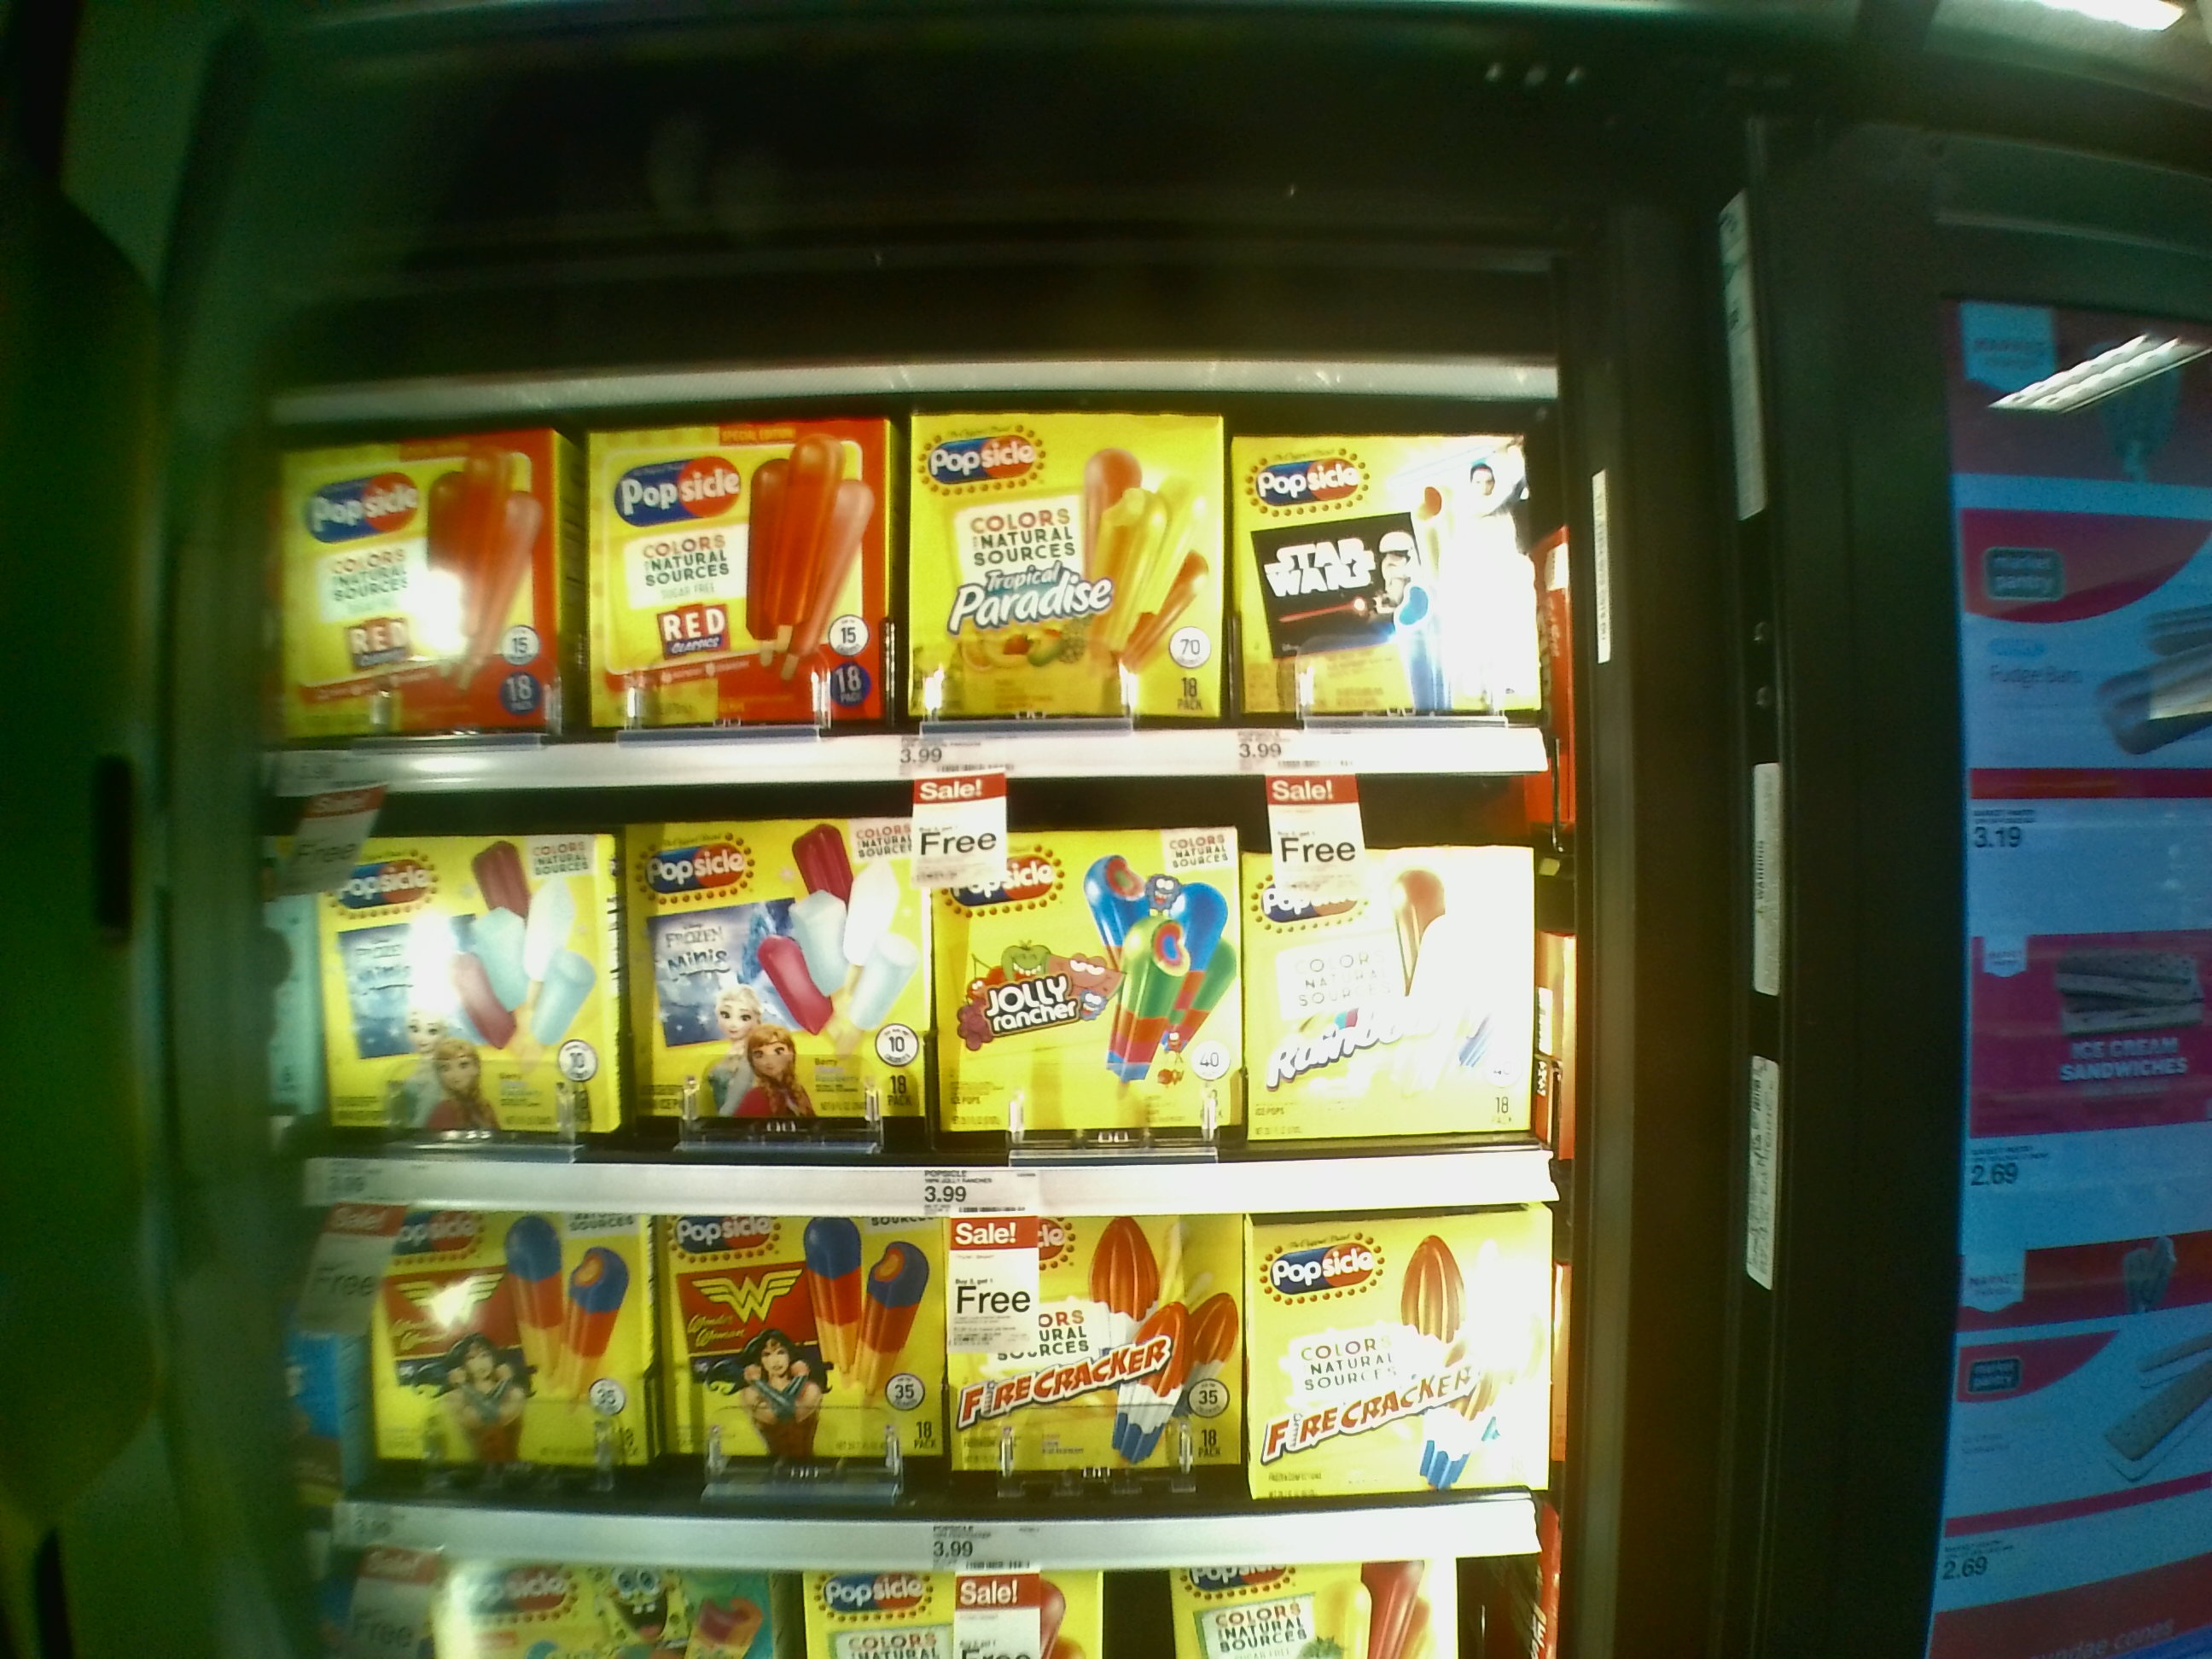shelf: (249, 324, 1555, 779), (261, 784, 1555, 1202), (308, 1208, 1550, 1567)
